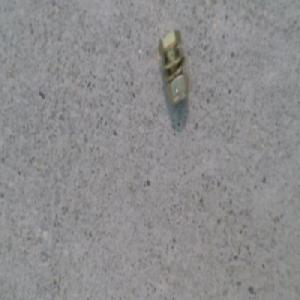BoltNutSet: (157, 28, 187, 107)
